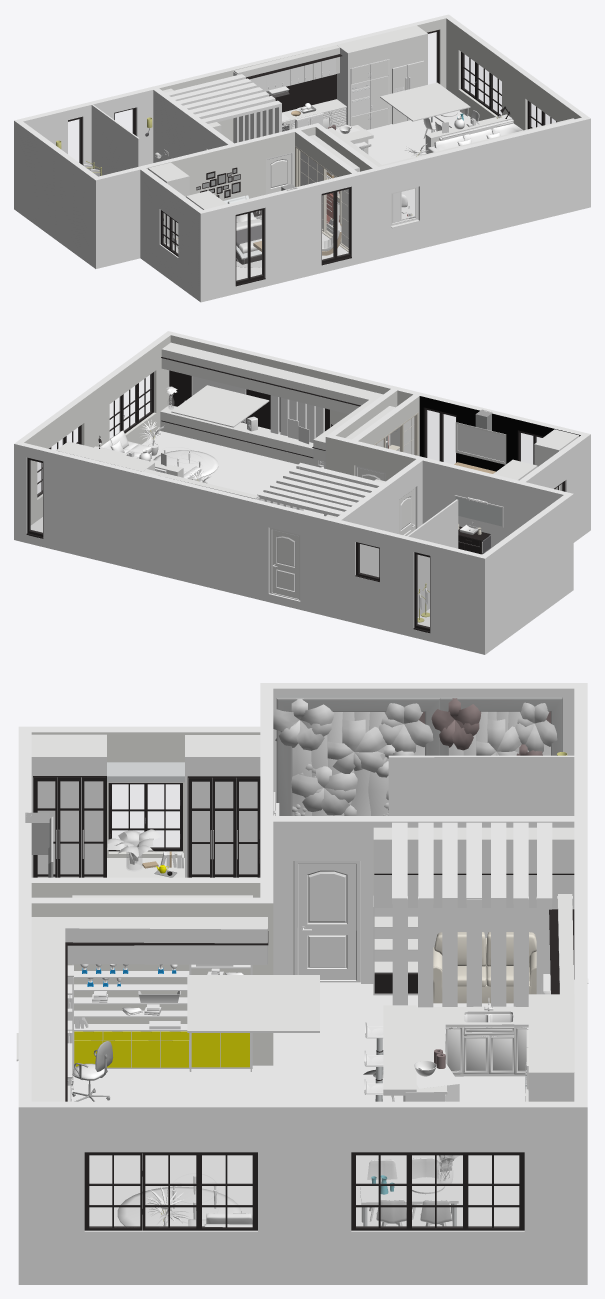
Rendered from home.glb.
3 views of the same model, one above another, from view 1: azimuth 30°, elevation 25°; view 2: azimuth 150°, elevation 25°; view 3: azimuth 270°, elevation 25° (orthographic). The views are drawn at different scales.
Visible parts, largest first — view 1: Object_12, Object_42, Object_7, Object_27, Object_46, Object_51, Object_6, Object_10, Object_2, Object_11, Object_43, Object_107 (+8 smaller); view 2: Object_12, Object_42, Object_7, Object_6, Object_27, Object_46, Object_10, Object_51, Object_11, Object_72, Object_2, Object_62 (+6 smaller); view 3: Object_42, Object_12, Object_11, Object_27, Object_46, Object_10, Object_51, Object_7, Object_8, Object_2, Object_70, Object_32 (+18 smaller).
Boxes of the visible parts, x1,y1,x2,y2 form: Object_12: [14, 118, 590, 302]; Object_42: [148, 25, 574, 251]; Object_7: [146, 18, 581, 253]; Object_27: [14, 14, 590, 213]; Object_46: [68, 32, 555, 280]; Object_51: [68, 29, 556, 286]; Object_6: [23, 90, 227, 166]; Object_10: [165, 71, 281, 143]; Object_2: [91, 105, 139, 175]; Object_11: [367, 110, 470, 220]; Object_43: [236, 151, 348, 253]; Object_107: [249, 58, 370, 148]; Object_12: [14, 434, 590, 654]; Object_42: [56, 342, 579, 600]; Object_7: [24, 335, 561, 525]; Object_6: [341, 460, 563, 577]; Object_27: [14, 331, 590, 558]; Object_46: [30, 374, 562, 627]; Object_10: [256, 395, 383, 516]; Object_51: [26, 357, 565, 633]; Object_11: [30, 431, 323, 532]; Object_72: [419, 396, 580, 471]; Object_2: [408, 500, 458, 616]; Object_62: [193, 376, 504, 462]; Object_42: [16, 734, 574, 1101]; Object_12: [18, 1107, 587, 1284]; Object_11: [71, 982, 526, 1226]; Object_27: [18, 683, 587, 1107]; Object_46: [89, 784, 543, 1227]; Object_10: [392, 822, 572, 1007]; Object_51: [33, 776, 574, 1230]; Object_7: [31, 732, 273, 1228]; Object_8: [273, 821, 574, 983]; Object_2: [388, 757, 574, 815]; Object_70: [292, 702, 557, 815]; Object_32: [276, 695, 562, 815].
Size of the model in its own units: 15.12 by 2.95 by 8.61.
